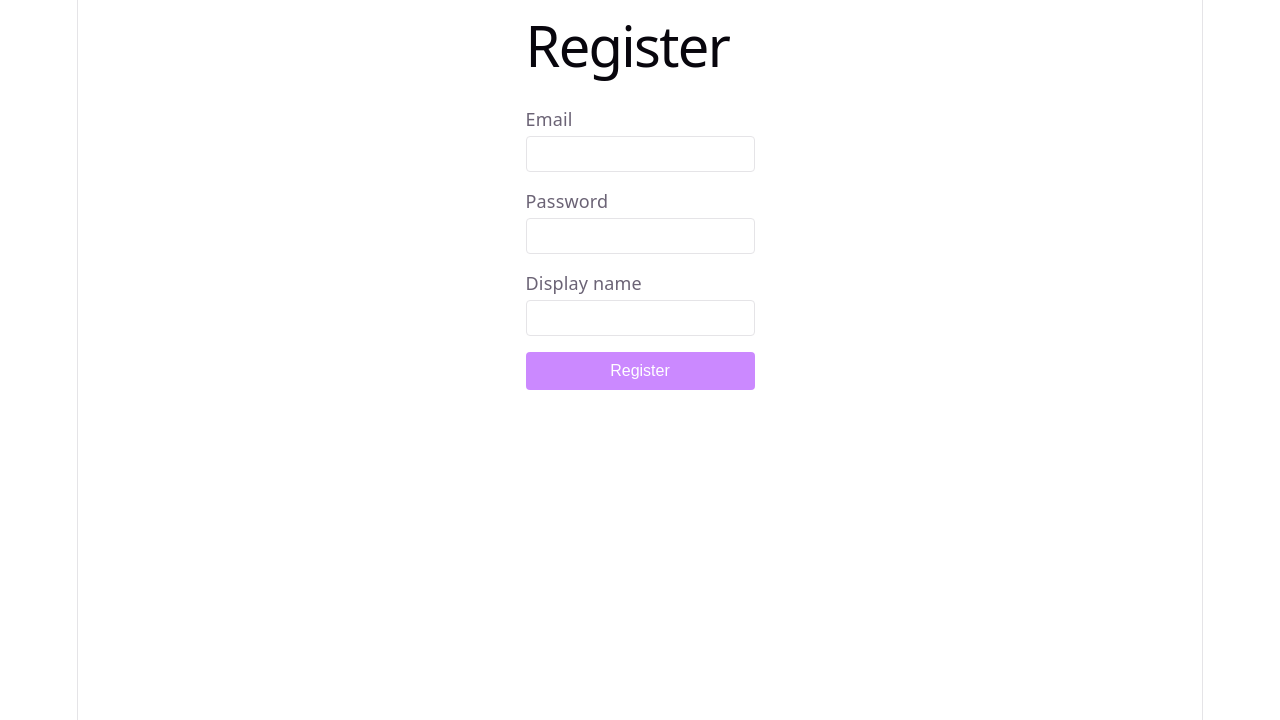
AUTH-002-AC-06: duplicate email shows a field-specific error › shows an email-field error and does not navigate on 409
The image size is (1280, 720).
Type "taken@example.com" into the field labelled "Email".
click(640, 154); type("taken@example.com")  # box x1=526 y1=136 x2=754 y2=172
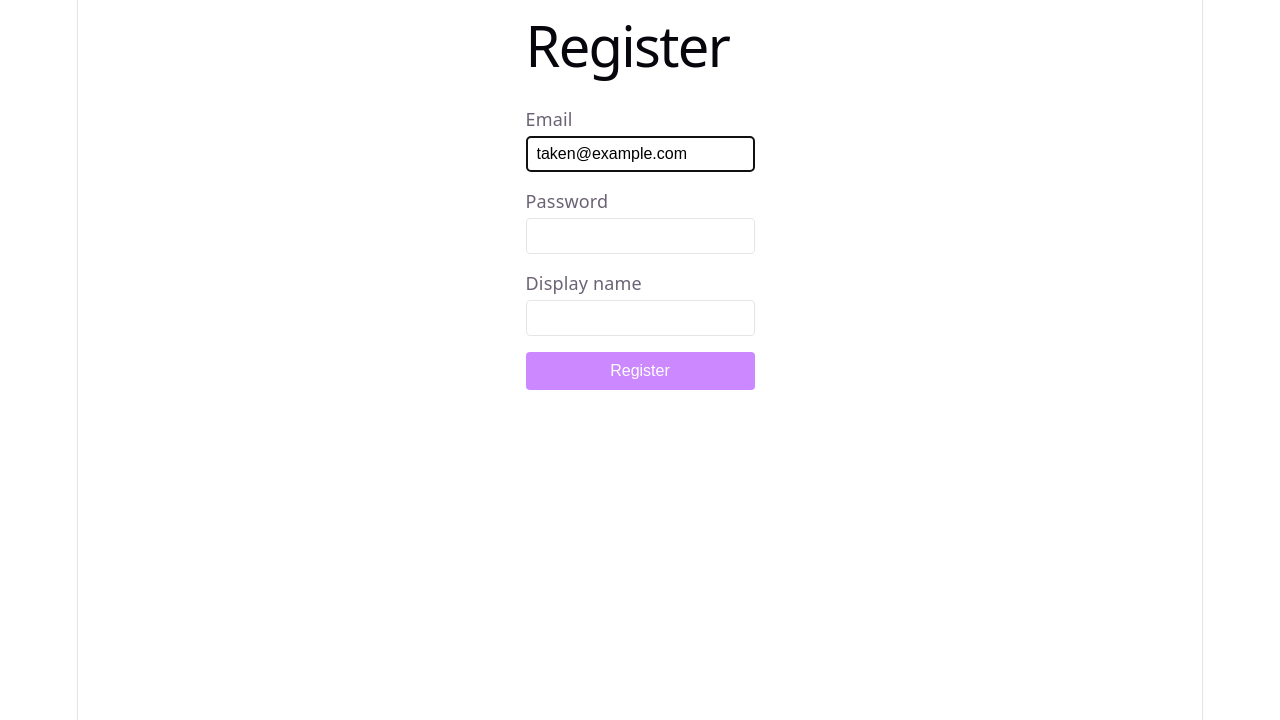
Type "a-long-enough-password" into the password field labelled "Password".
click(640, 236); type("a-long-enough-password")  # box x1=526 y1=218 x2=754 y2=254
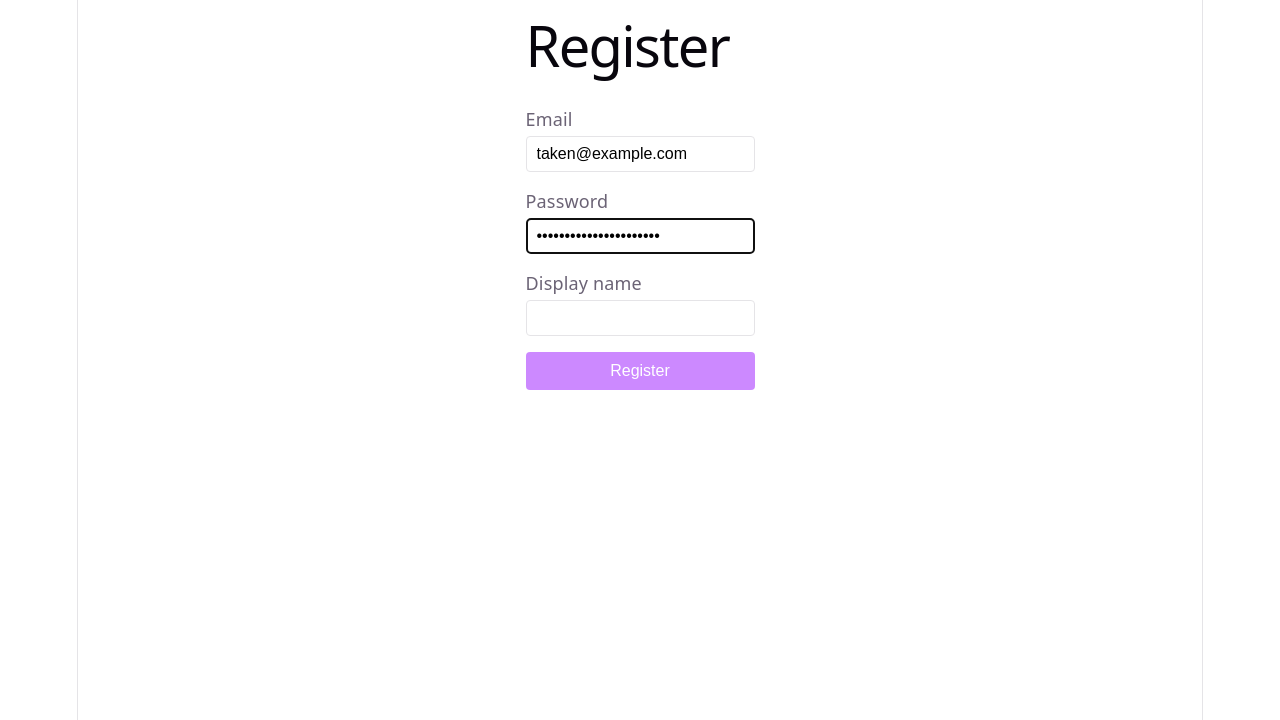
Type "Steve" into the field labelled "Display name".
click(640, 318); type("Steve")  # box x1=526 y1=300 x2=754 y2=336
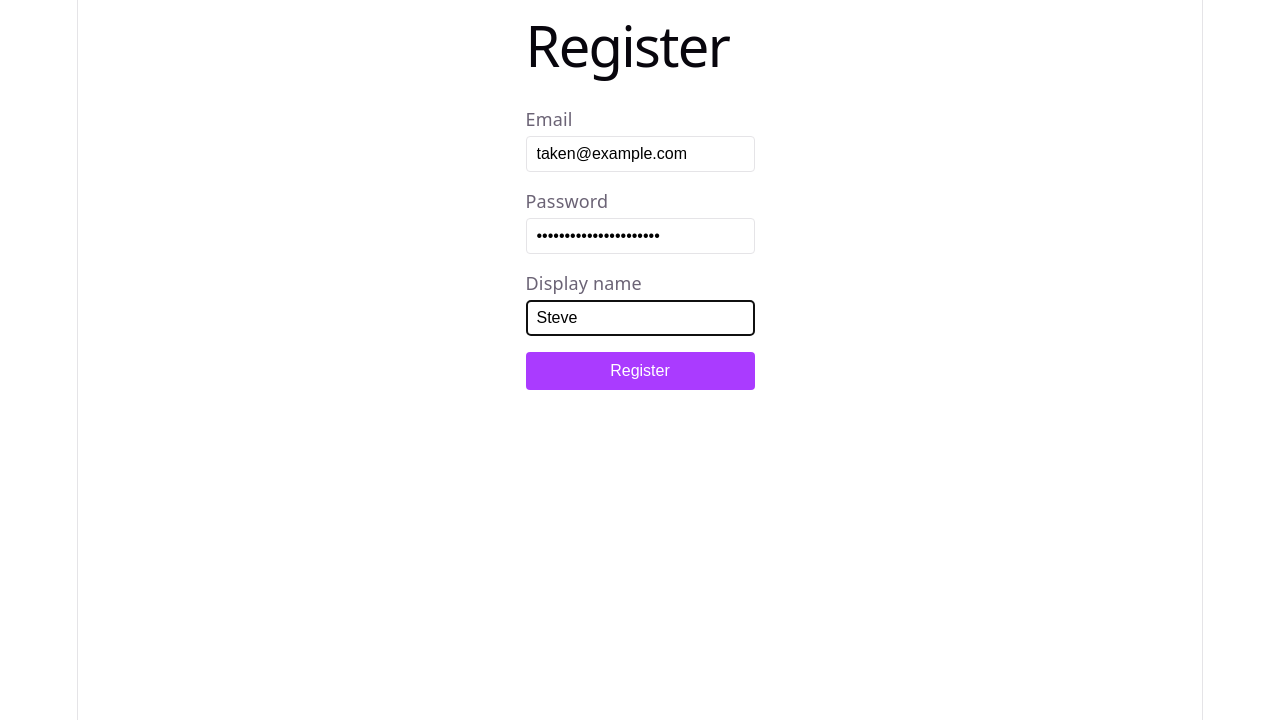
Click the button "Register".
click(640, 371)  # box x1=526 y1=352 x2=754 y2=390
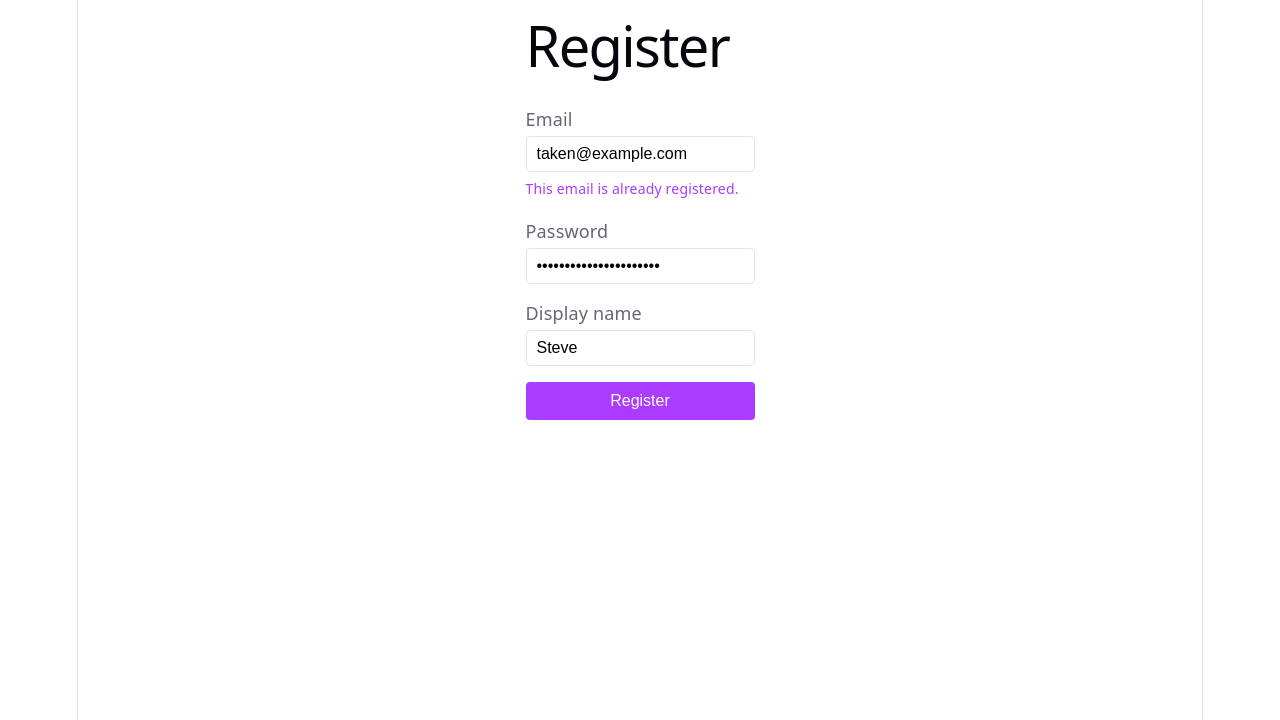
expect the text "This email is already registered." is shown: met, box x1=526 y1=176 x2=754 y2=202
